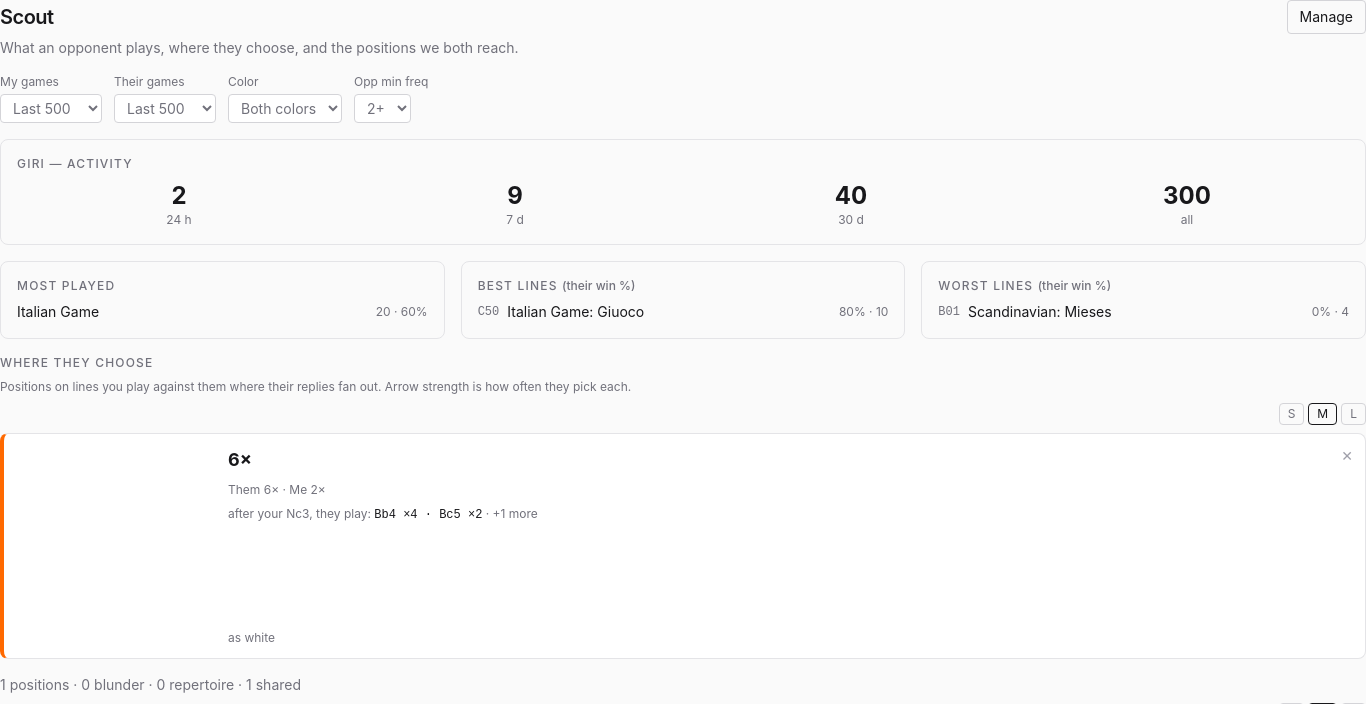
Test case: Scout page › asks the repertoire about a position card's board, never about a decision node's (the opponent's move)
Click the element with test id "position-card" that starts with "Them 6× · Me 2×": point(683, 546) [0, 433, 1365, 659]
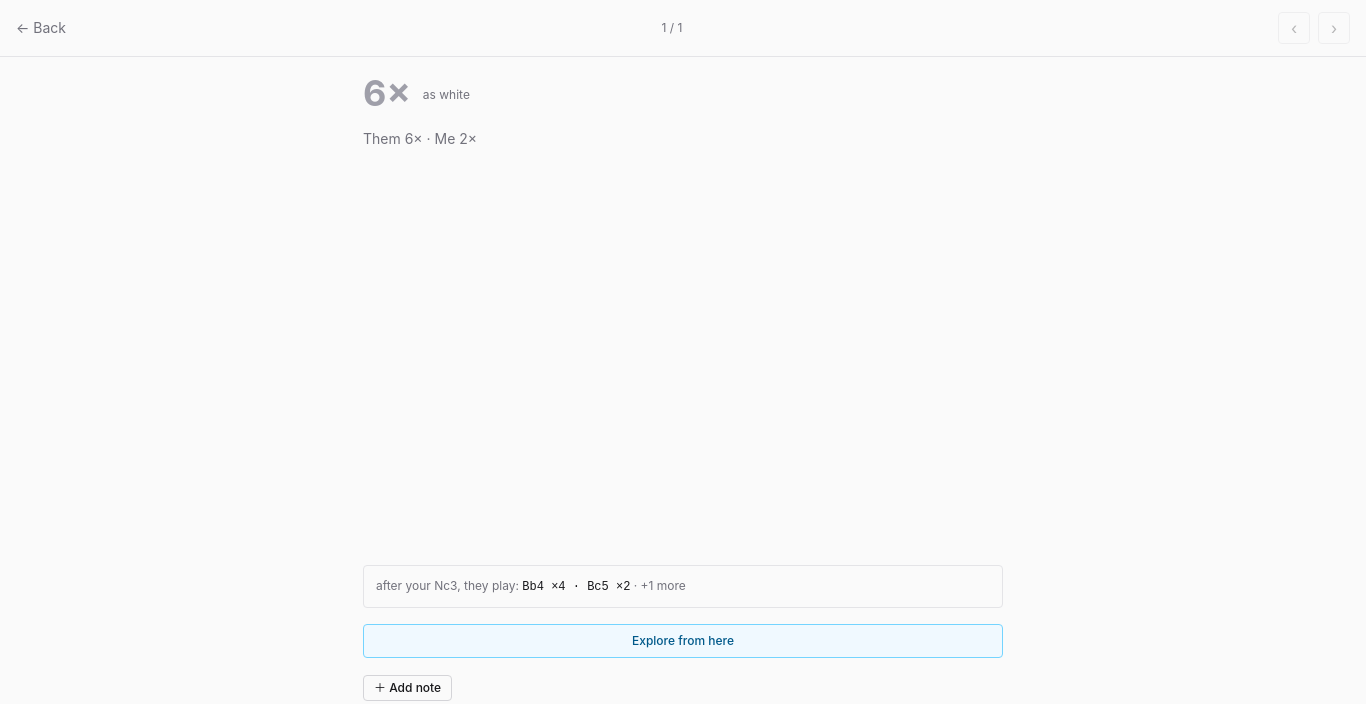
Expected: the text "Not in your repertoire" is not shown
Now the element with test id "replies-line" that starts with "after your Nc3, they play:" is shown, box [376, 578, 686, 594]
Press Escape
(page scrolled)
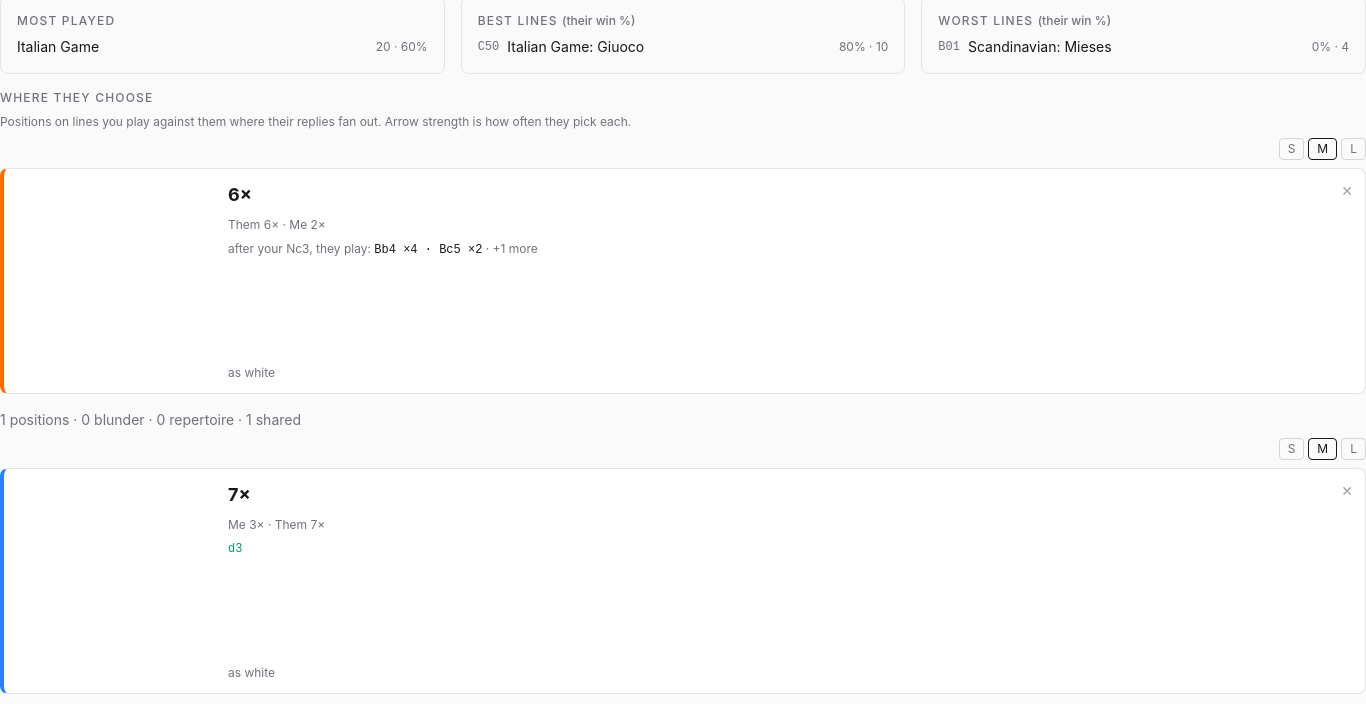
Click the element with test id "position-card" that starts with "Me 3× · Them 7×": point(683, 581) [0, 468, 1365, 694]
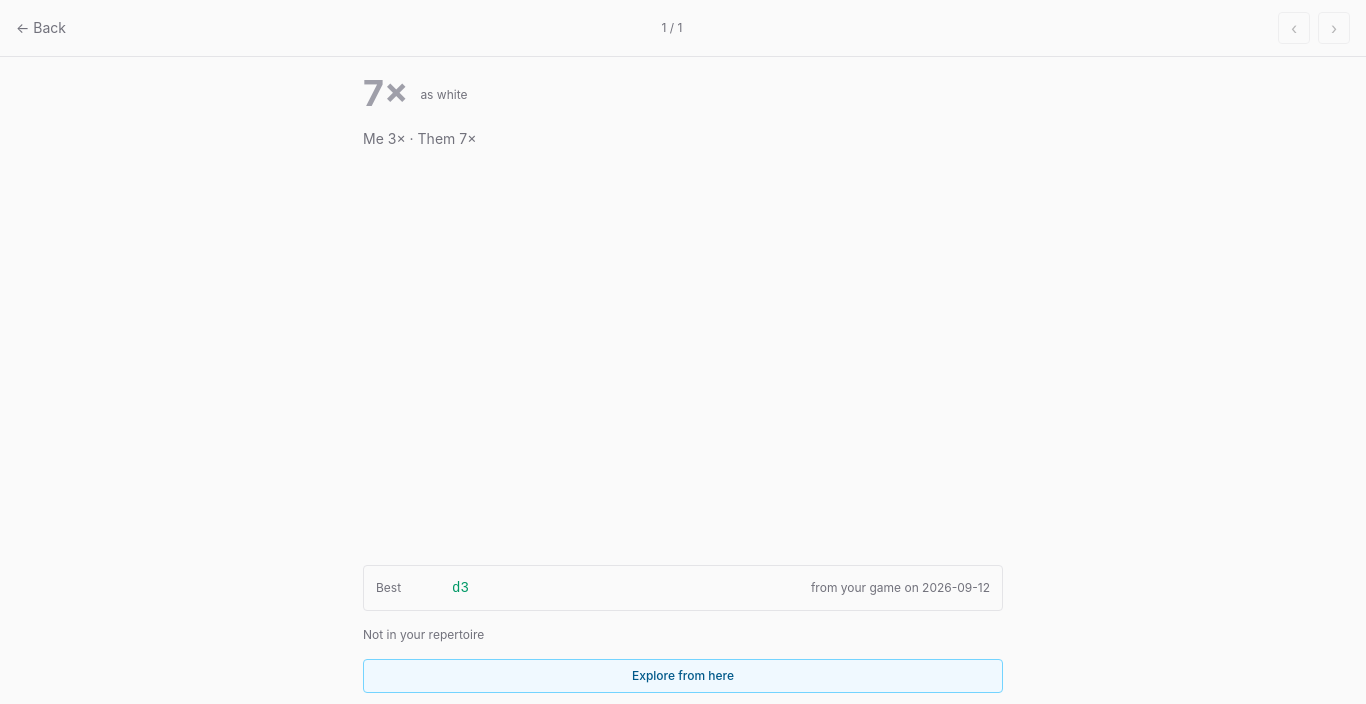
Now the text "Not in your repertoire" is shown, box [363, 627, 484, 642]
